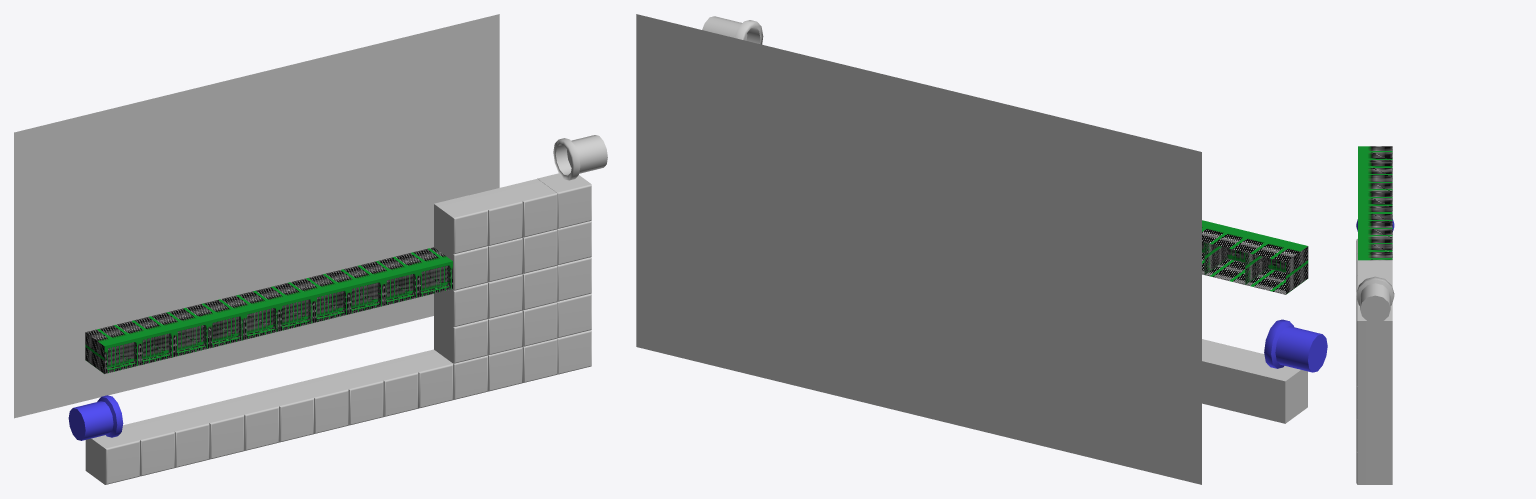
File: stage01_model.fbx
3 renders of one model, left to right at view 1: azimuth 30°, elevation 25°; view 2: azimuth 150°, elevation 25°; view 3: azimuth 270°, elevation 25°, orthographic. The views are drawn at different scales.
Visible parts, largest first — view 1: bg, block1, Wire_mesh, start1, goal1; view 2: bg, block1, Wire_mesh, start1, goal1; view 3: block1, Wire_mesh, goal1.
Part boxes in pixels (x1,y1,x2,y2): bg: (14, 14, 499, 418); block1: (85, 173, 591, 484); Wire_mesh: (85, 247, 452, 373); start1: (68, 395, 123, 440); goal1: (553, 135, 607, 180); bg: (636, 14, 1201, 484); block1: (1202, 339, 1307, 423); Wire_mesh: (1202, 220, 1308, 294); start1: (1264, 319, 1327, 372); goal1: (702, 16, 763, 44); block1: (1356, 238, 1392, 484); Wire_mesh: (1358, 146, 1392, 260); goal1: (1356, 276, 1394, 323).
Size of the model in its own units: 115 by 60 by 34.94.
